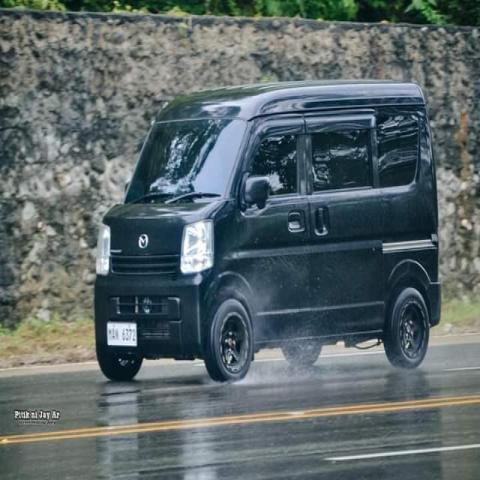van: (85, 72, 451, 394)
